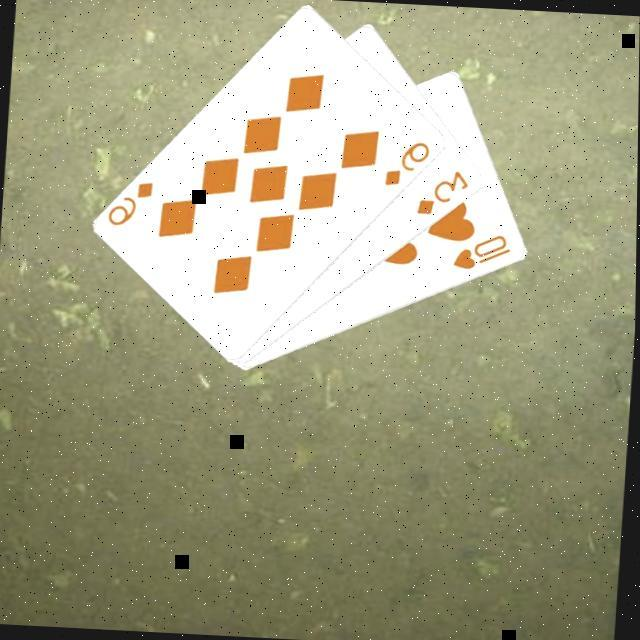10H: (448, 230, 516, 276)
3D: (412, 167, 472, 222)
9D: (380, 138, 434, 193), (103, 178, 157, 233)
